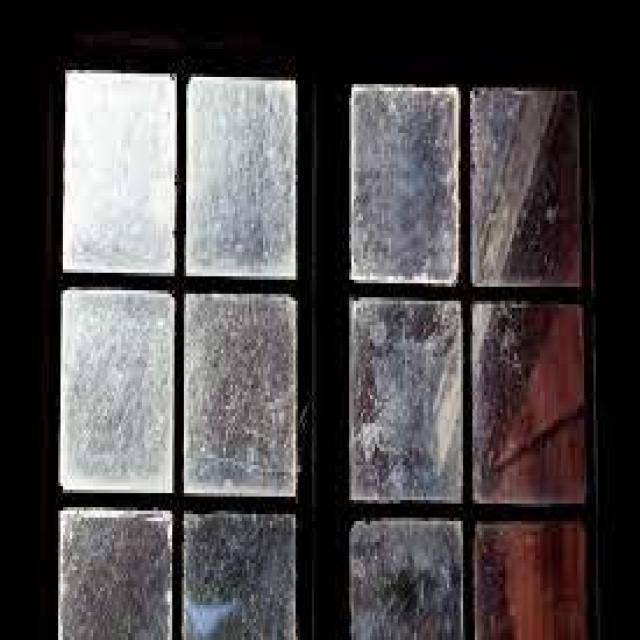Window: (58, 58, 604, 640)
